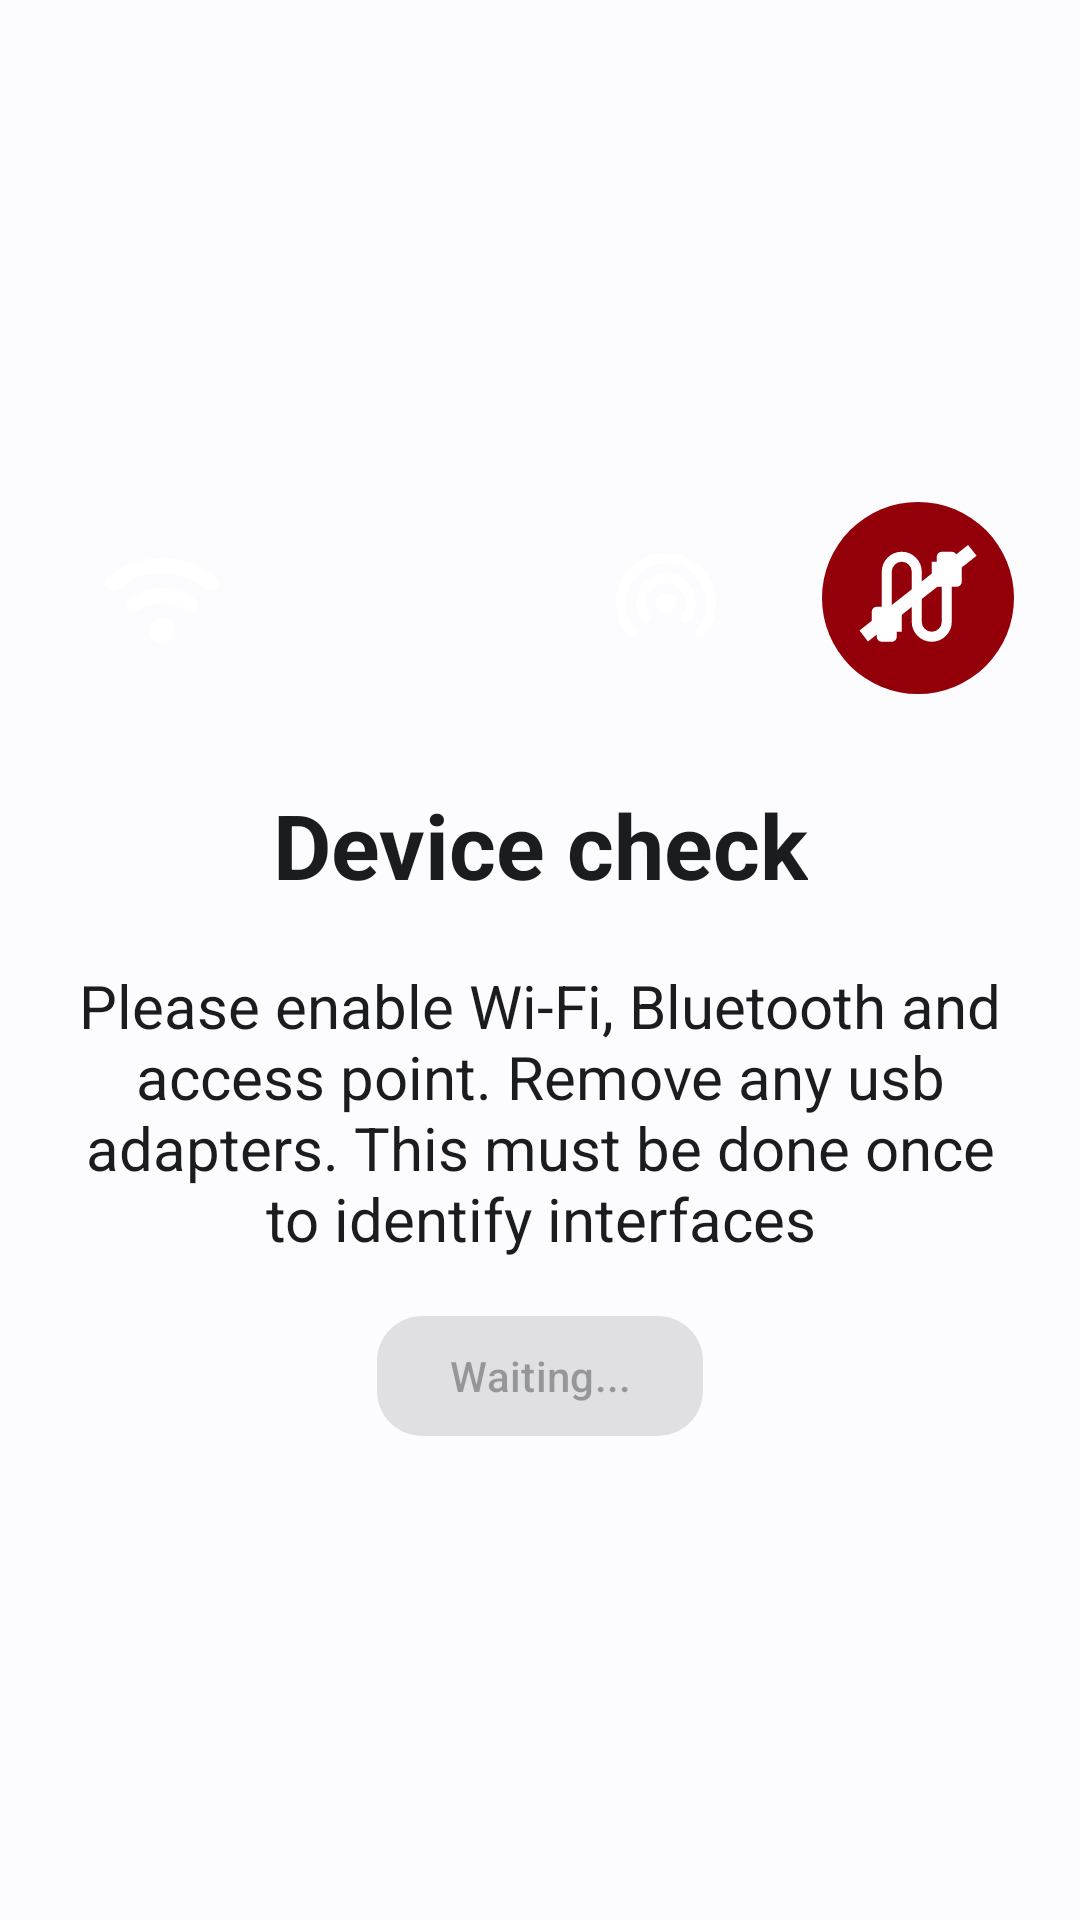

Named icons in this screenshot (1080w x 1920h) and their bounding boxes, Rect(x1, y1, x2, y2):
no usb: Rect(822, 502, 1014, 694)
